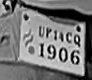0: (58, 45, 70, 65)
1: (37, 41, 46, 59), (53, 27, 59, 42)
4: (59, 30, 65, 45)
6: (69, 48, 82, 68)
9: (45, 43, 58, 62)
C: (64, 32, 74, 44)
P: (44, 25, 51, 40)
Q: (74, 32, 83, 48)
U: (38, 24, 46, 38)
